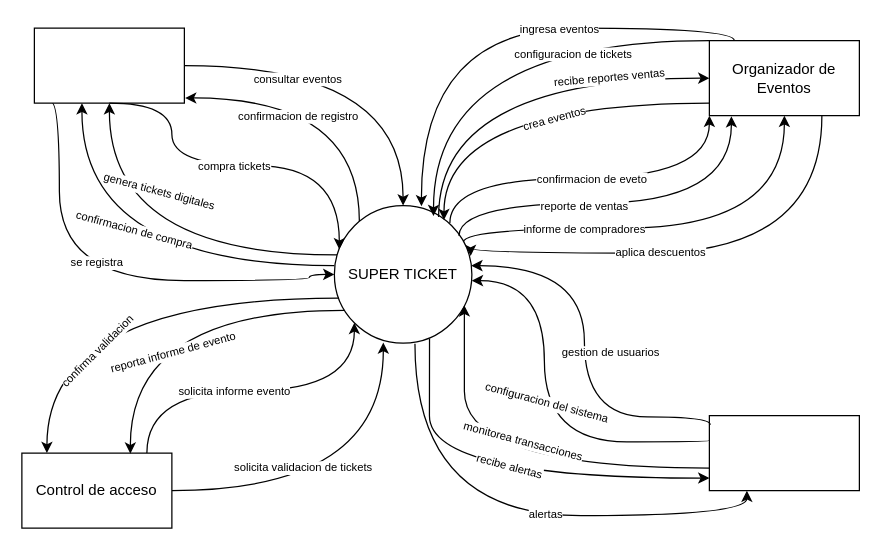
This 881x550 diagram has some shape labels left out. The centre of each missing label's shape, as x and y in pixels:
"Administrador de Sistema" belongs at pixel 783 452.
"Usuario" belongs at pixel 108 65.
